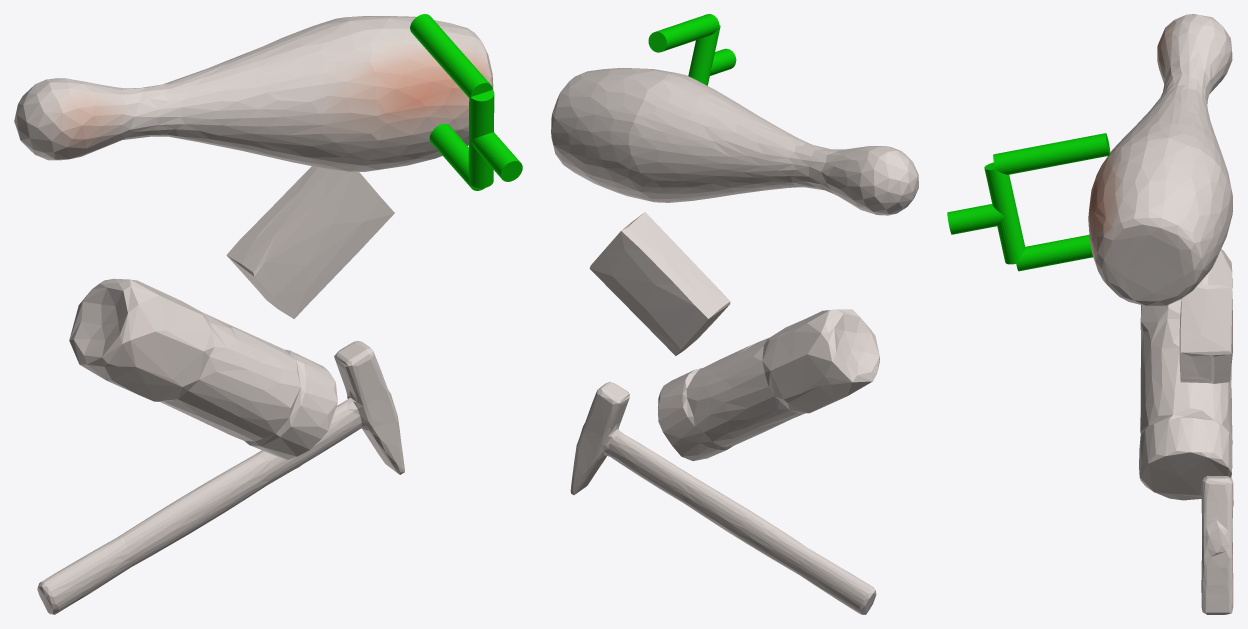
File: round_000_trial_002.obj
The picture shows the model from 3 angles, left to right: view 1: azimuth 30°, elevation 25°; view 2: azimuth 150°, elevation 25°; view 3: azimuth 270°, elevation 25°; orthographic projection. The views are drawn at different scales.
Visible parts, largest first — view 1: geometry_0, geometry_1; view 2: geometry_0, geometry_1; view 3: geometry_0, geometry_1.
Part boxes in pixels (x1=…): geometry_0: x1=14, y1=16, x2=493, y2=614; geometry_1: x1=410, y1=14, x2=522, y2=190; geometry_0: x1=551, y1=68, x2=918, y2=614; geometry_1: x1=648, y1=14, x2=736, y2=85; geometry_0: x1=1088, y1=14, x2=1233, y2=614; geometry_1: x1=947, y1=133, x2=1110, y2=271.
Bounding box in the file's own units: 0.1993 × 0.2504 × 0.1244.
